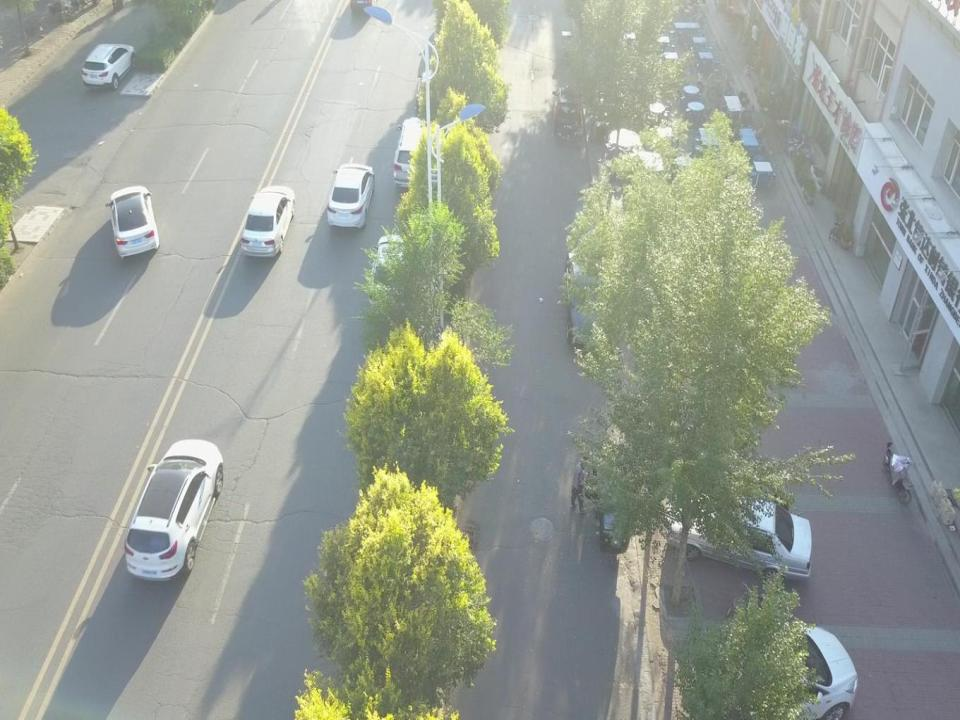car: (694, 611, 862, 716), (656, 487, 816, 587), (123, 435, 224, 582), (564, 242, 621, 355), (100, 183, 162, 258), (237, 184, 299, 256), (369, 227, 424, 306), (322, 160, 373, 228), (80, 39, 138, 92), (548, 84, 588, 144), (882, 437, 914, 506)
van: (389, 110, 440, 186)
